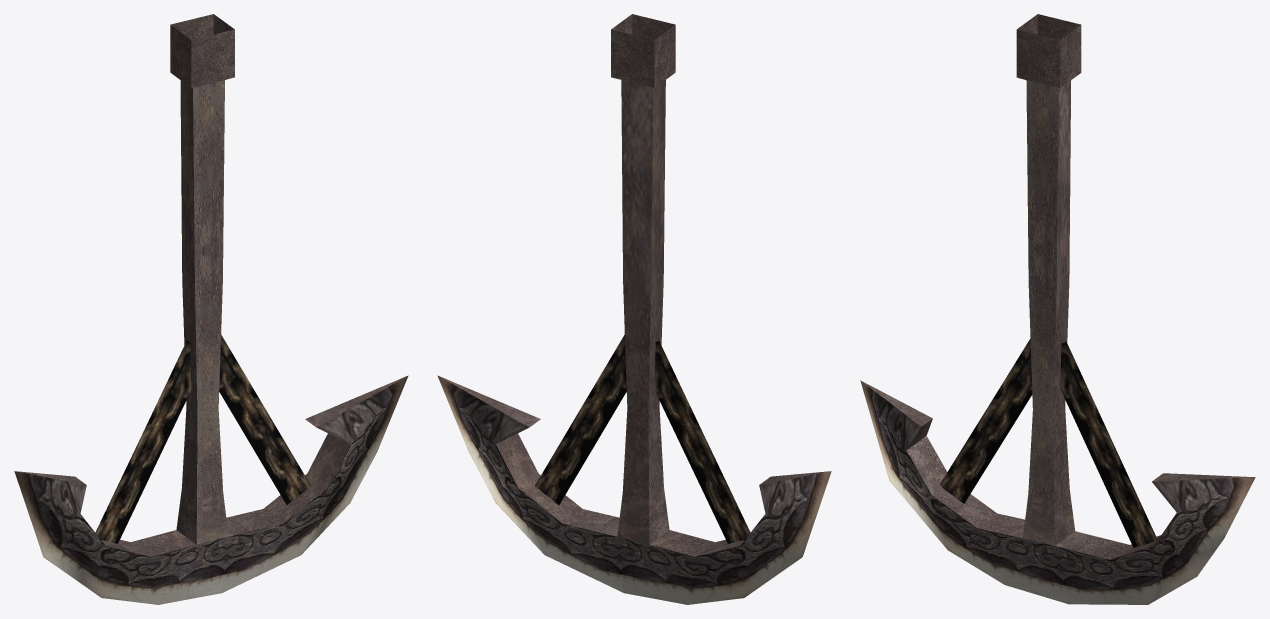
The model's file is knife02.FBX.
3 views of the same model, side by side, from view 1: azimuth 30°, elevation 25°; view 2: azimuth 150°, elevation 25°; view 3: azimuth 330°, elevation 25° (orthographic).
Parts seen in each view (by area): view 1: knife02; view 2: knife02; view 3: knife02.
Part boxes in pixels (x1,y1,x2,y2): knife02: [14, 14, 408, 604]; knife02: [437, 14, 831, 604]; knife02: [860, 14, 1255, 604].
Bounding box in the file's own units: 346 × 478 × 32.02.
2 materials, 2 textured.
